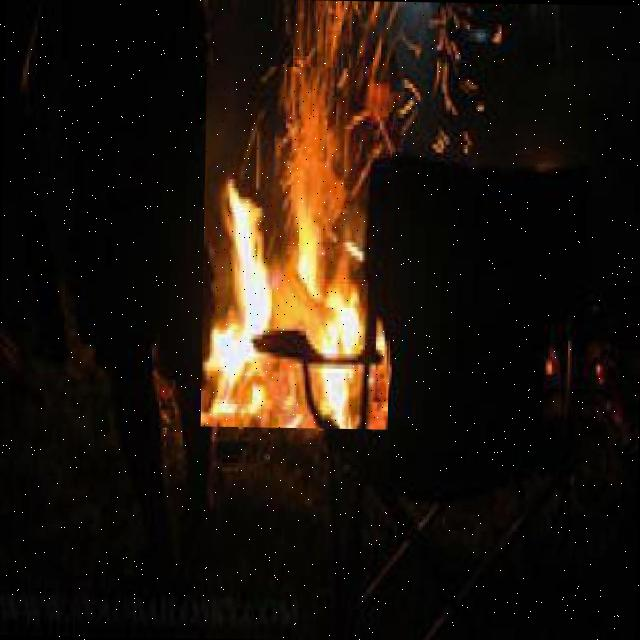fire: (200, 65, 394, 429)
